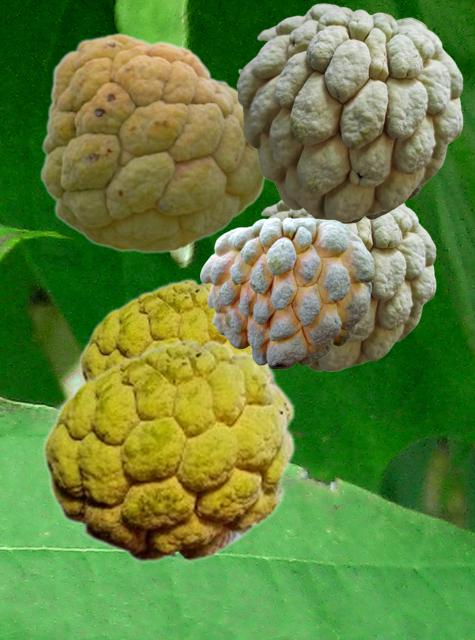atis: (41, 338, 295, 562), (39, 32, 265, 252), (236, 3, 462, 221), (260, 199, 435, 370), (200, 217, 373, 368), (78, 278, 250, 380), (342, 184, 425, 222)
